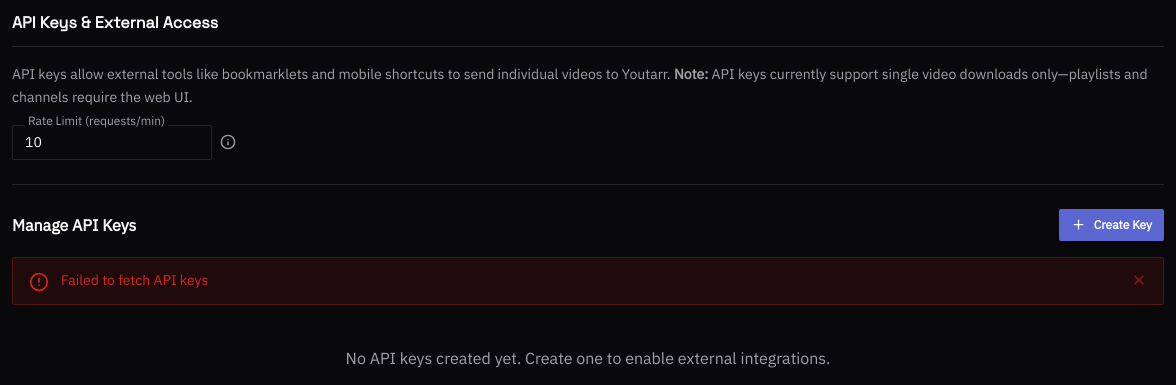
Test: ApiKeysSection Component › Error Handling › error alert can be dismissed
Check: the text "Failed to fetch API keys" is shown, box 61,270 -> 208,288
# Close the error alert
Click the button named "close" at [1139, 280], box 1127,268 -> 1151,292
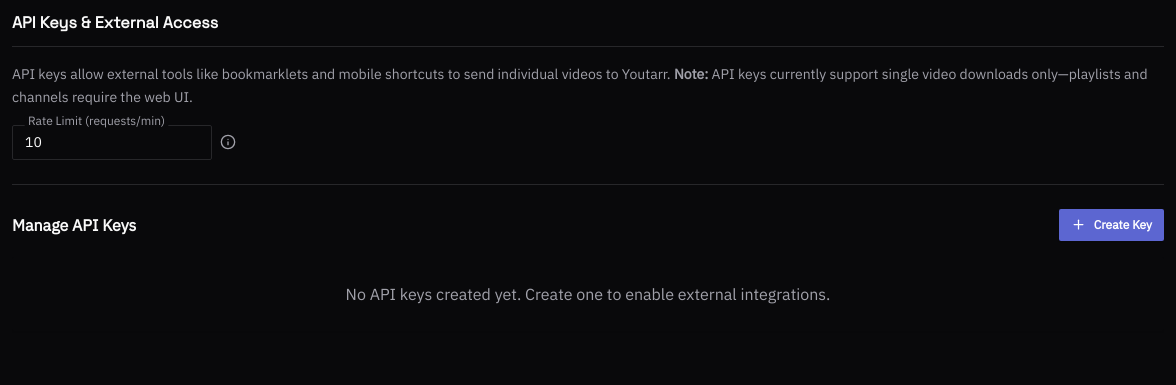
Check: the text "Failed to fetch API keys" is gone
